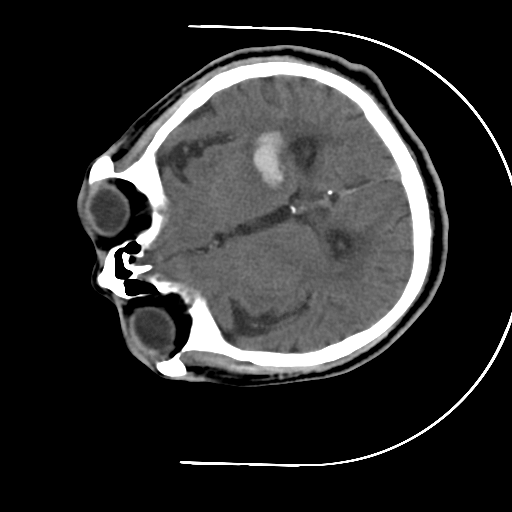a: (230, 110, 306, 203)
